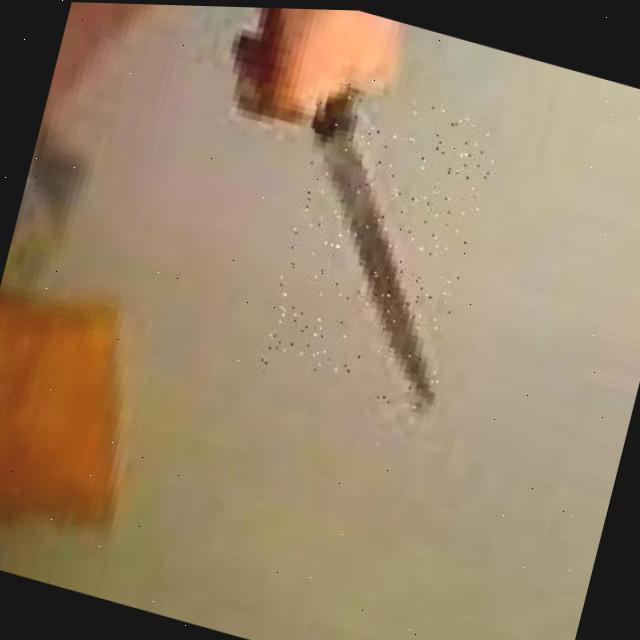knife: (251, 73, 500, 412)
